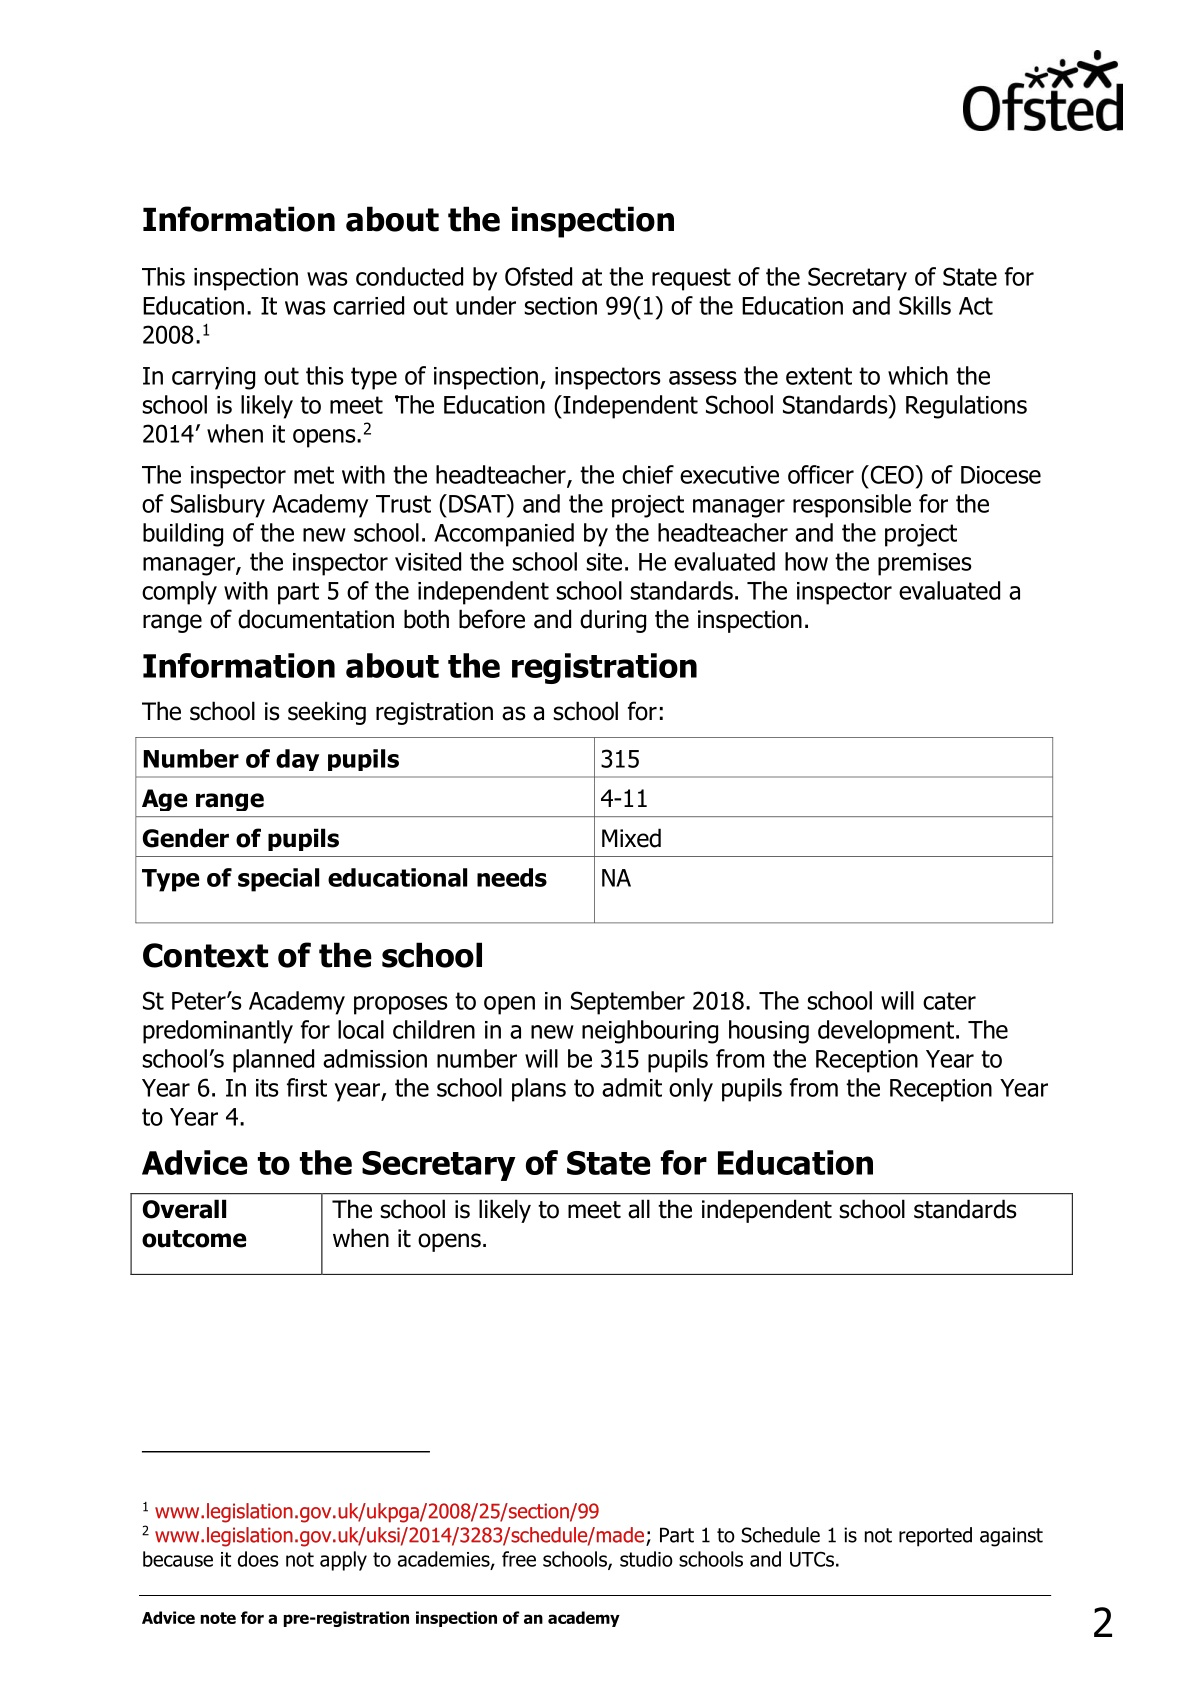full_lined: (134, 735, 1053, 924), (129, 1192, 1074, 1276)
